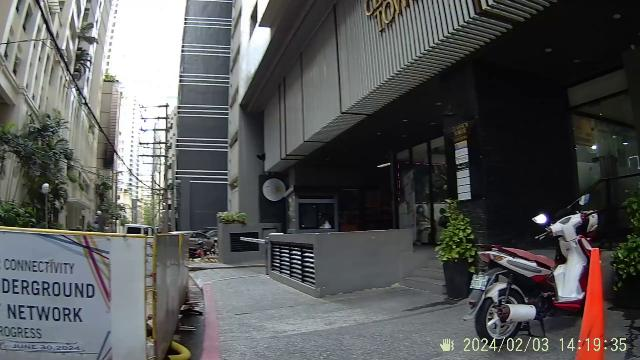construction_materials: (0, 239, 196, 360)
potted_plant: (438, 215, 476, 301)
